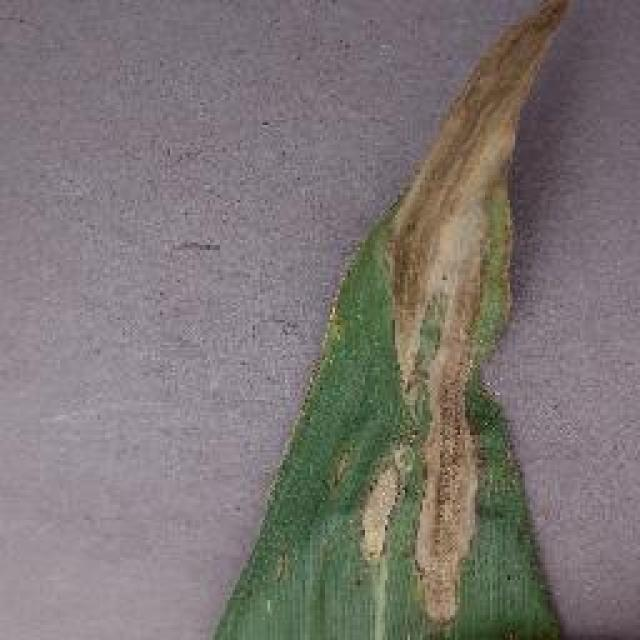Corn___Northern_Leaf_Blight: (170, 2, 632, 640)
